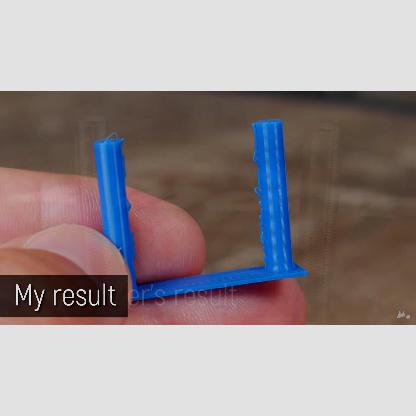fail: (252, 146, 260, 164), (251, 185, 261, 199)
